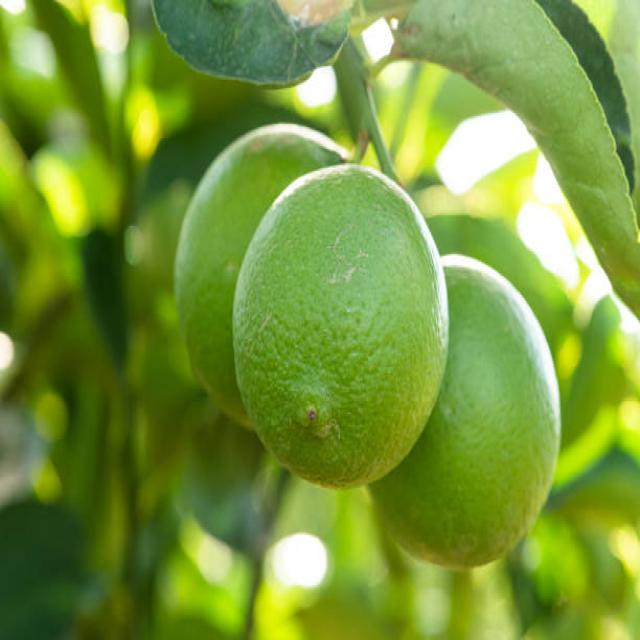Unripe: (232, 157, 449, 489)
